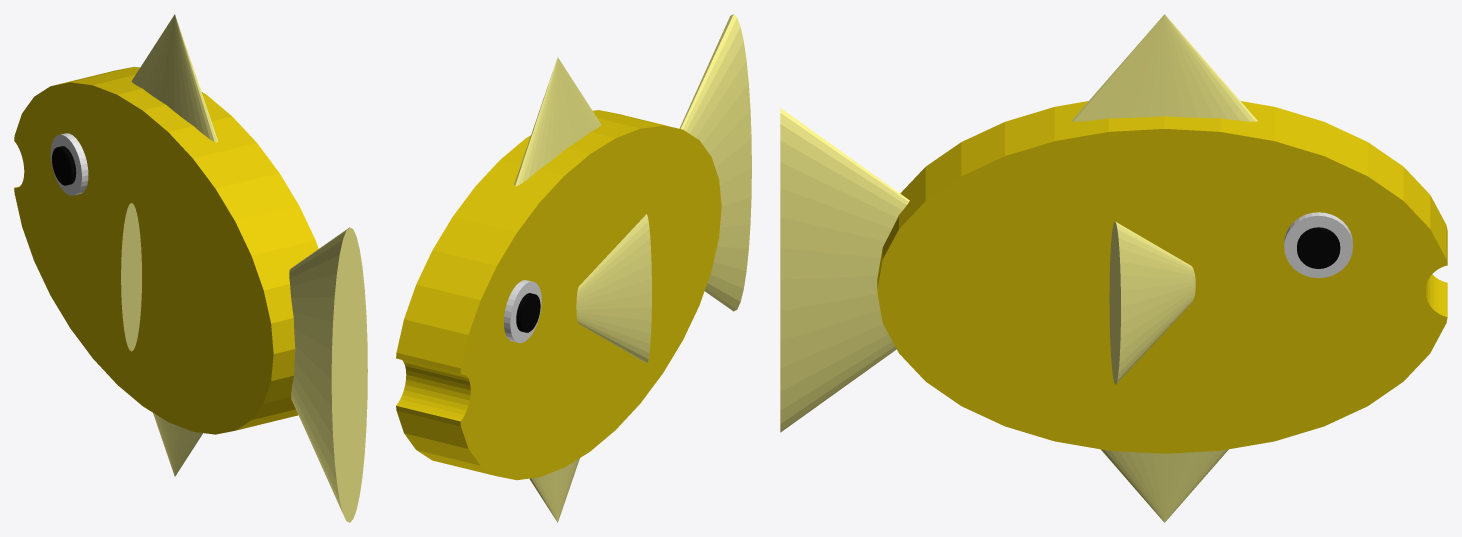
The model's file is goldgoldfish.fbx.
3 views of the same model, side by side, from view 1: azimuth 30°, elevation 25°; view 2: azimuth 150°, elevation 25°; view 3: azimuth 270°, elevation 25° (orthographic). The views are drawn at different scales.
Visible parts, largest first — view 1: 胴体, 尾びれ, 背びれ, 左手, 腹びれ, 白目, 黒目; view 2: 胴体, 尾びれ, 左手, 背びれ, 腹びれ, 白目, 黒目; view 3: 胴体, 尾びれ, 背びれ, 右手, 腹びれ, 白目, 黒目.
Boxes of the visible parts, <box> form: 胴体: <box>14,66,318,434</box>; 尾びれ: <box>289,227,367,522</box>; 背びれ: <box>131,14,217,142</box>; 左手: <box>121,203,141,351</box>; 腹びれ: <box>153,413,202,476</box>; 白目: <box>50,133,88,195</box>; 黒目: <box>52,146,76,185</box>; 胴体: <box>396,110,721,480</box>; 尾びれ: <box>679,14,751,311</box>; 左手: <box>576,214,651,363</box>; 背びれ: <box>514,57,601,186</box>; 腹びれ: <box>529,458,579,522</box>; 白目: <box>503,280,541,342</box>; 黒目: <box>516,293,540,332</box>; 胴体: <box>877,101,1447,453</box>; 尾びれ: <box>780,108,909,432</box>; 背びれ: <box>1071,14,1257,121</box>; 右手: <box>1109,221,1195,384</box>; 腹びれ: <box>1100,449,1228,522</box>; 白目: <box>1284,212,1352,278</box>; 黒目: <box>1297,227,1340,268</box>.
Bounding box in the file's own units: 105 × 313 × 372.
